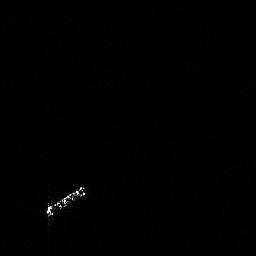ship: (44, 185, 88, 216)
